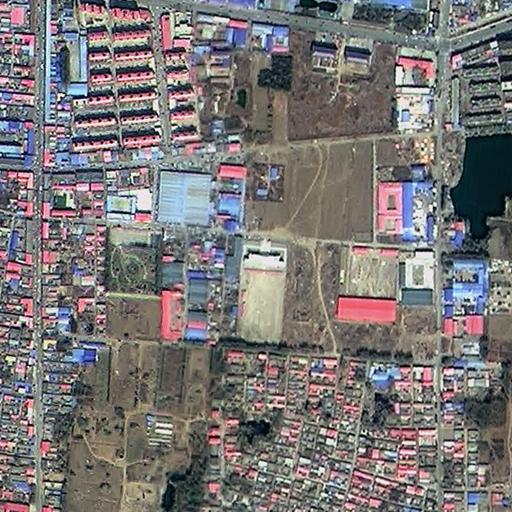school: (183, 234, 288, 346)
